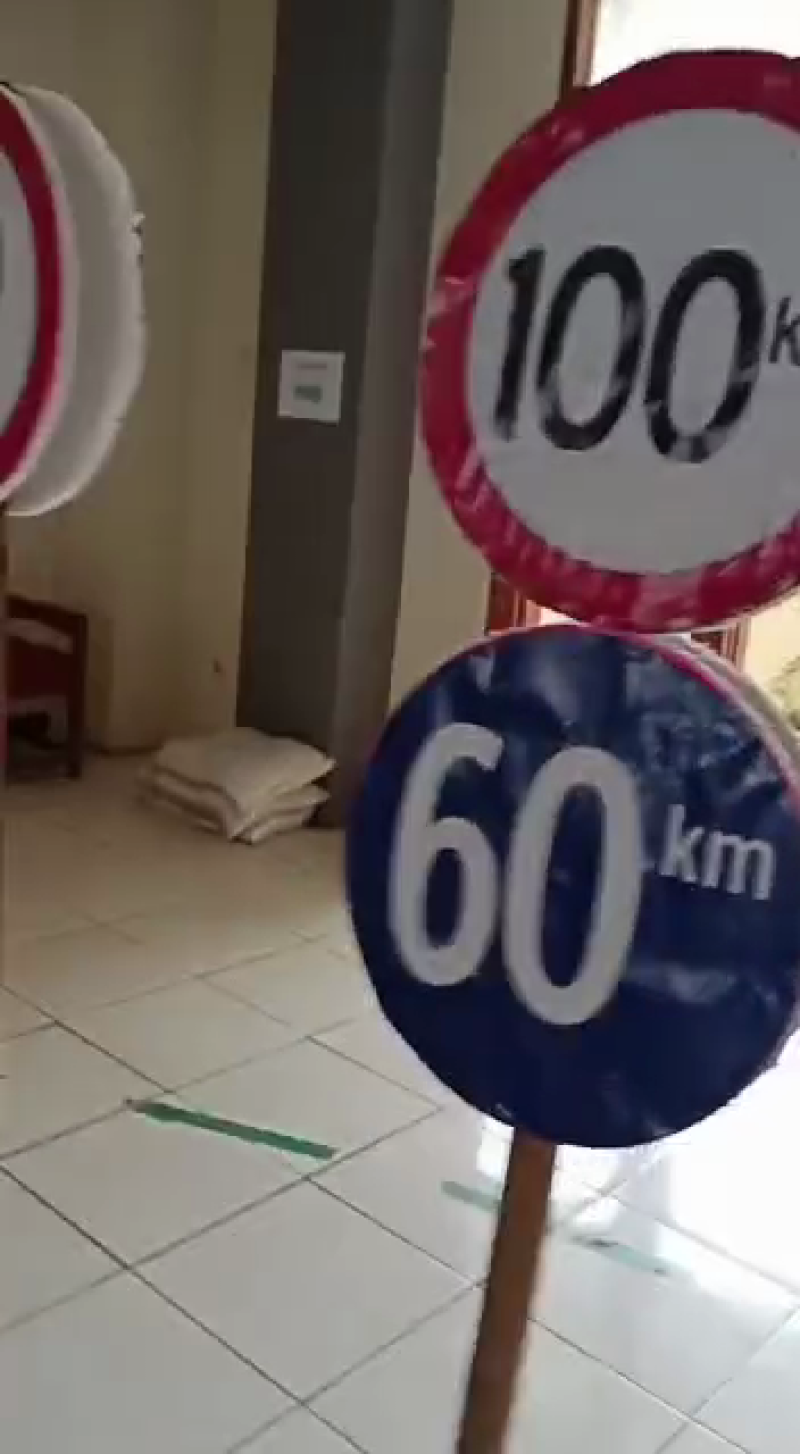batas maksimal 100kmperjam minimal 60kmperjam: (323, 32, 800, 1145)
